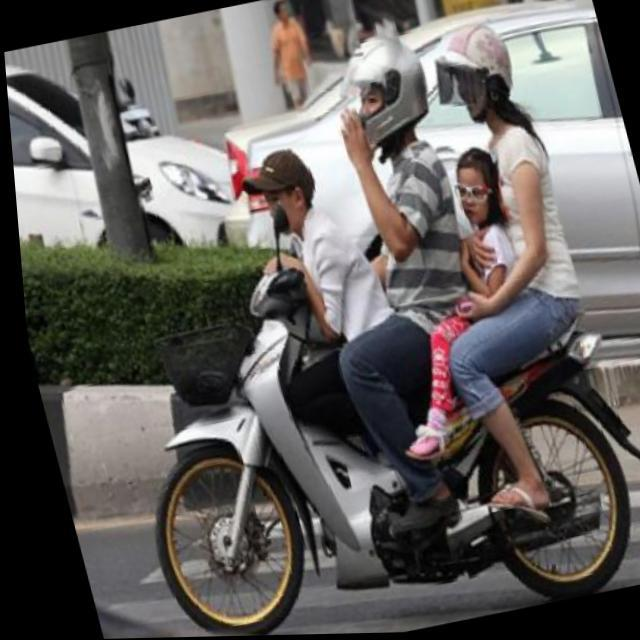Helmet: (338, 23, 438, 156), (436, 13, 518, 133)
Nonhelmet: (450, 143, 509, 233)
